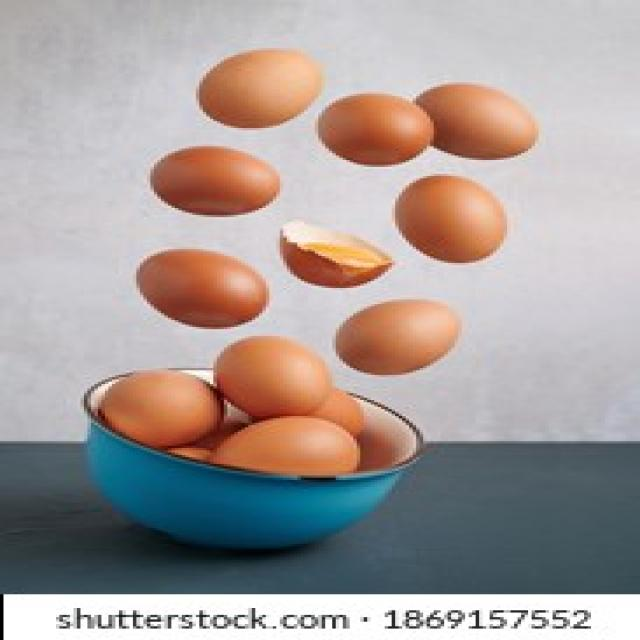Brown Egg: (204, 413, 376, 485), (130, 244, 270, 326), (191, 38, 315, 130), (98, 364, 230, 450), (391, 175, 516, 265), (146, 142, 280, 216), (217, 333, 331, 419), (335, 303, 467, 374), (425, 82, 543, 160), (314, 88, 433, 164)
